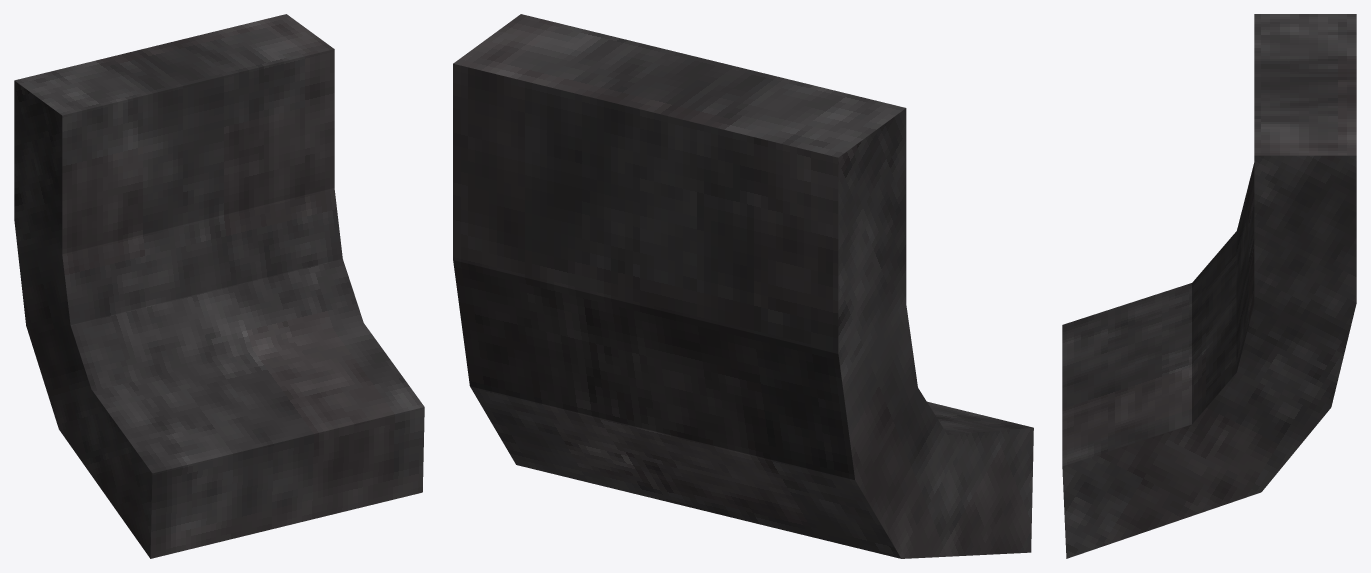
Rendered from balk_9.glb.
The picture shows the model from 3 angles, left to right: view 1: azimuth 30°, elevation 25°; view 2: azimuth 150°, elevation 25°; view 3: azimuth 270°, elevation 25°; orthographic projection. The views are drawn at different scales.
Visible parts, largest first — view 1: Куб.004; view 2: Куб.004; view 3: Куб.004.
Part boxes in pixels (<box>): Куб.004: <box>14,14,424,558</box>; Куб.004: <box>453,14,1033,558</box>; Куб.004: <box>1062,14,1356,558</box>.
Size of the model in its own units: 2.49 by 3.31 by 2.18.
Materials: 1 (1 with a texture image).
